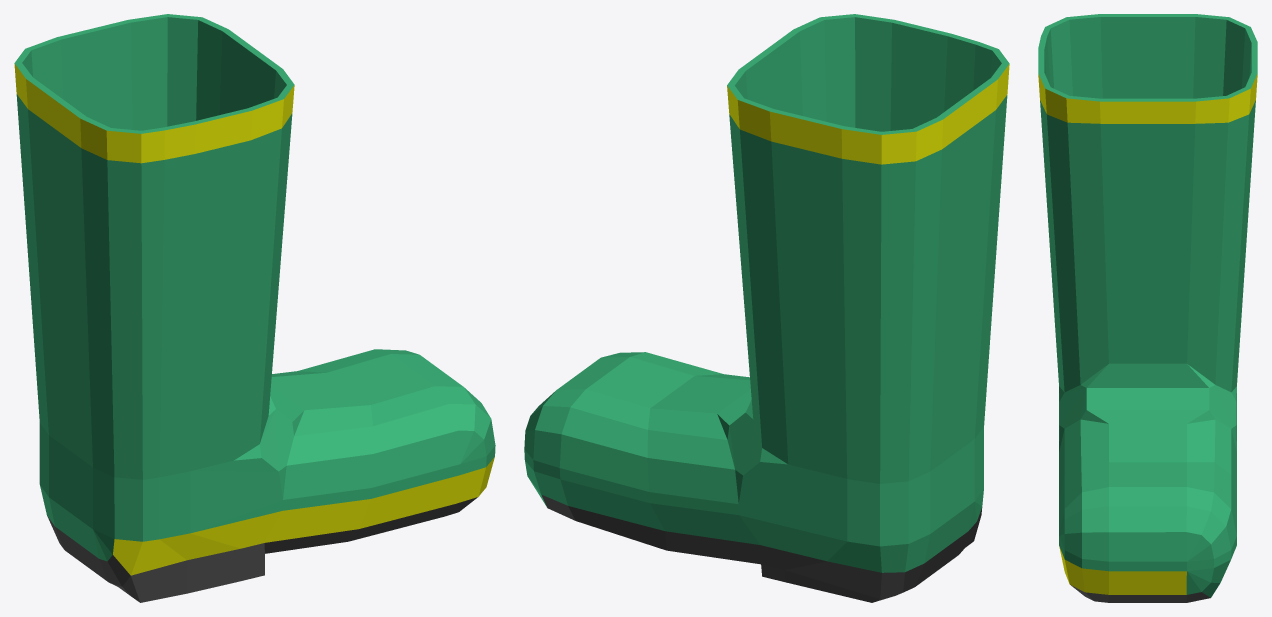
The model's file is boot_left.glb.
The picture shows the model from 3 angles, left to right: view 1: azimuth 30°, elevation 25°; view 2: azimuth 150°, elevation 25°; view 3: azimuth 270°, elevation 25°; orthographic projection. The views are drawn at different scales.
Parts seen in each view (by area): view 1: Box002; view 2: Box002; view 3: Box002.
Part boxes in pixels (left/top/right/bottom): Box002: left=14, top=14, right=495, bottom=602; Box002: left=524, top=14, right=1009, bottom=602; Box002: left=1038, top=14, right=1257, bottom=602.
Size of the model in its own units: 0.3016 by 0.34 by 0.1577.
